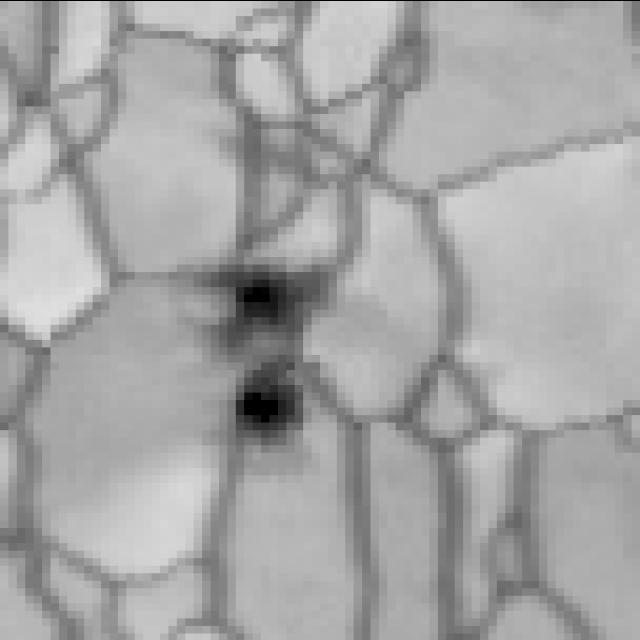good_void: (214, 354, 329, 476), (211, 263, 330, 354)
